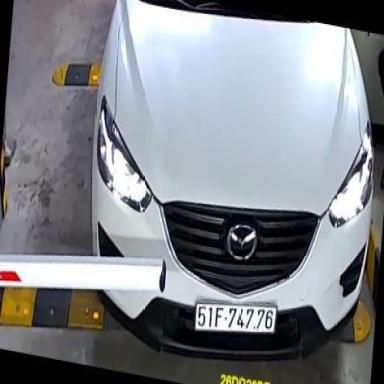License_Plate: (192, 295, 285, 342)
